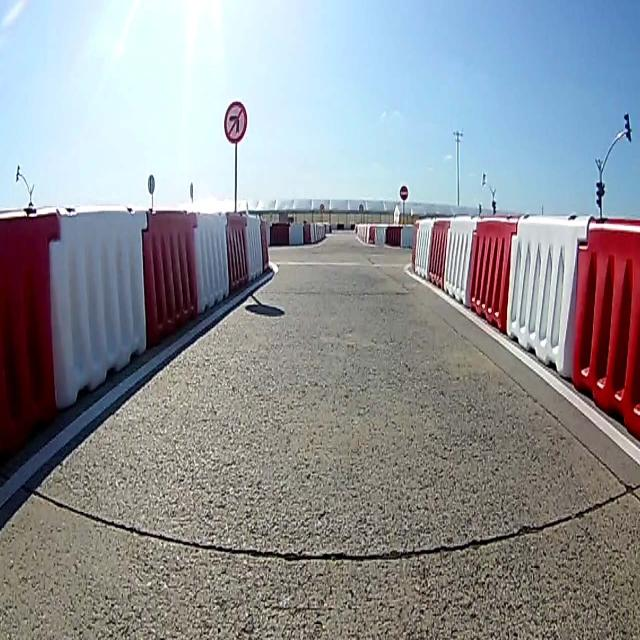girisyok: (400, 182, 409, 203)
soladonulmez: (223, 100, 249, 144)
